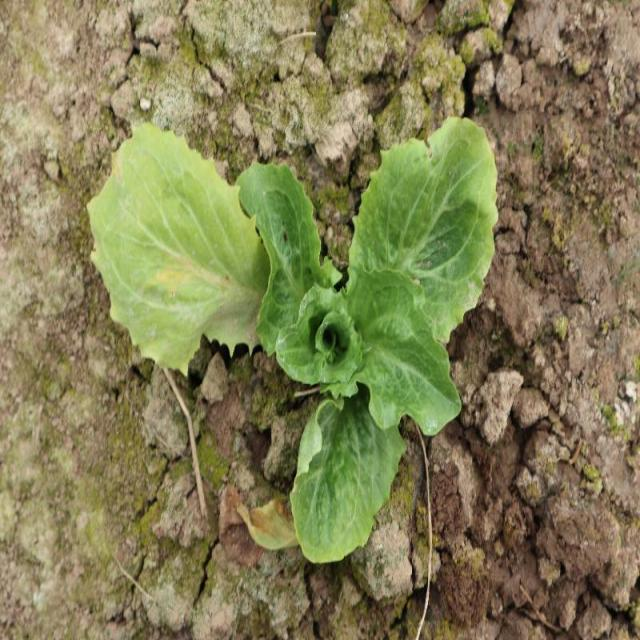crop: (86, 112, 500, 565)
